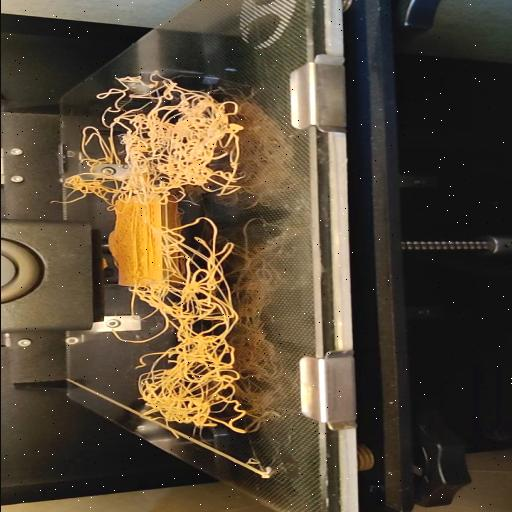spaghetti: (98, 74, 249, 440), (46, 94, 102, 208)
